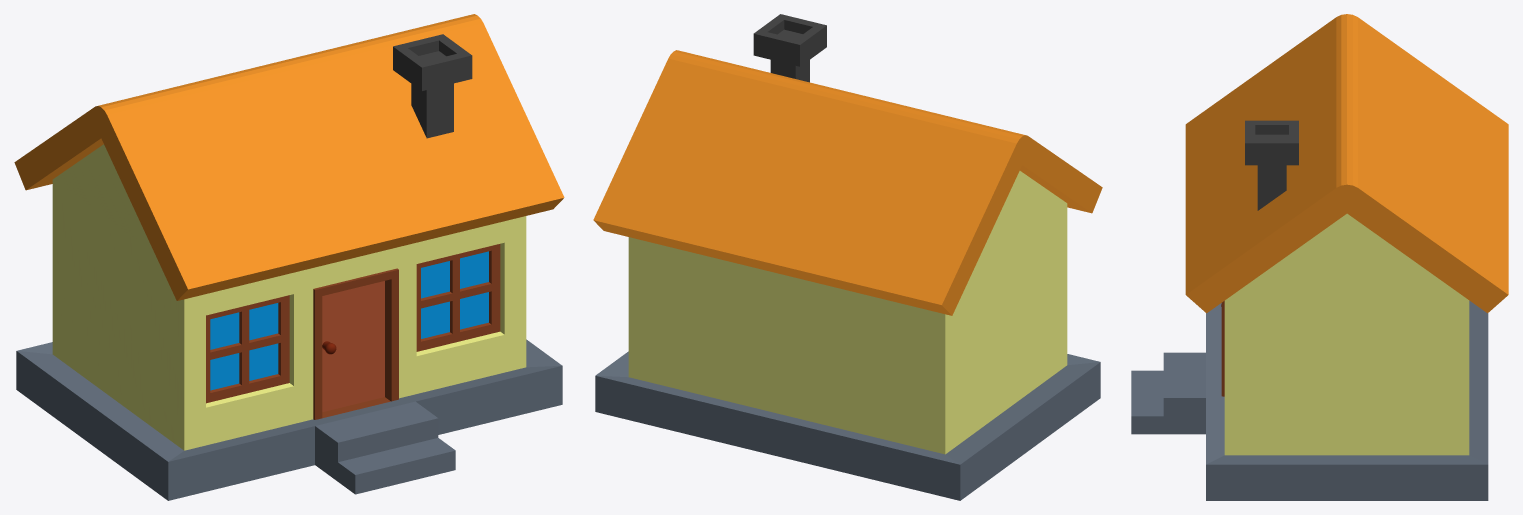
Rendered from low_poly_house.glb.
The picture shows the model from 3 angles, left to right: view 1: azimuth 30°, elevation 25°; view 2: azimuth 150°, elevation 25°; view 3: azimuth 270°, elevation 25°; orthographic projection. The views are drawn at different scales.
Parts seen in each view (by area): view 1: Roof, Main House, Base, Stairs, Window Frame, Glass, Door In, Chimney, Door Outer; view 2: Roof, Main House, Base, Chimney; view 3: Roof, Main House, Base, Stairs, Chimney.
Boxes of the visible parts, box(x1,y1,x2,y2) form: Roof: box(14, 14, 564, 300); Main House: box(52, 144, 526, 450); Base: box(16, 339, 562, 500); Stairs: box(315, 401, 455, 494); Window Frame: box(206, 244, 500, 403); Glass: box(210, 251, 488, 390); Door In: box(322, 281, 384, 411); Chimney: box(393, 34, 472, 138); Door Outer: box(313, 268, 398, 419); Roof: box(593, 50, 1102, 315); Main House: box(628, 171, 1067, 454); Base: box(595, 351, 1100, 500); Chimney: box(753, 14, 826, 82); Roof: box(1185, 14, 1508, 313); Main House: box(1224, 213, 1469, 455); Base: box(1206, 300, 1488, 500); Stairs: box(1131, 352, 1205, 434); Chimney: box(1245, 120, 1298, 210).
Size of the model in its own units: 6.92 by 5.88 by 6.17.
